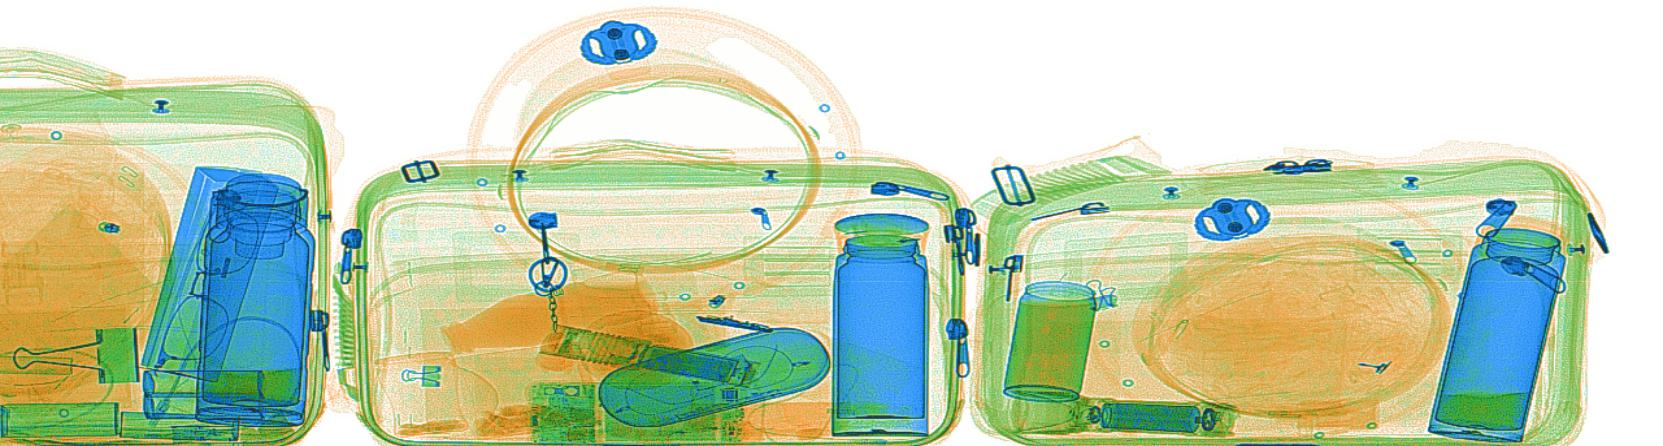battery: (1091, 400, 1204, 434), (655, 346, 742, 387)
